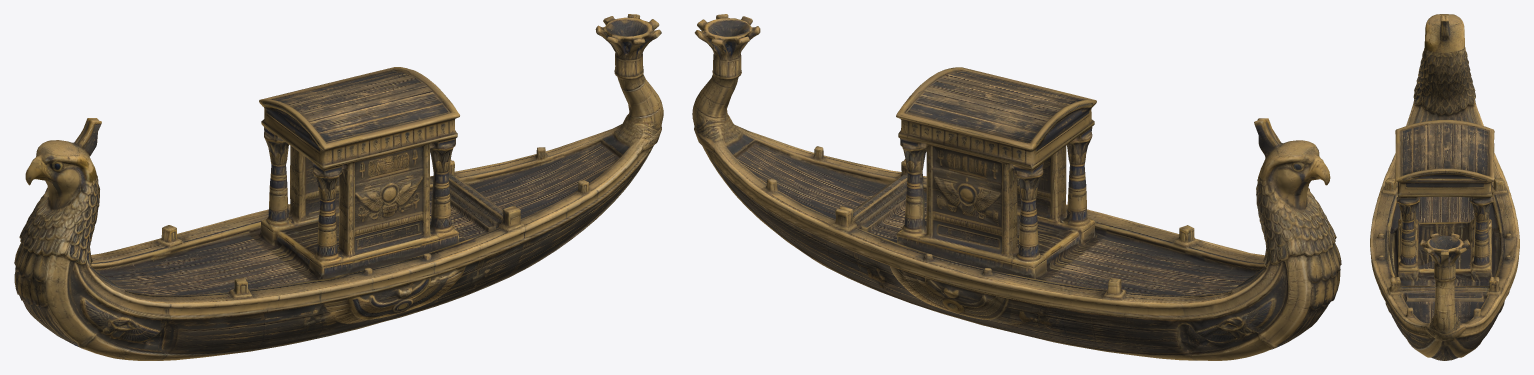
File: WF_EgyptianTombV2_FuneraryBoat.fbx
The picture shows the model from 3 angles, left to right: view 1: azimuth 30°, elevation 25°; view 2: azimuth 150°, elevation 25°; view 3: azimuth 270°, elevation 25°; orthographic projection. The views are drawn at different scales.
Visible parts, largest first — view 1: Mesh1.0; view 2: Mesh1.0; view 3: Mesh1.0.
Boxes of the visible parts, bbox=[...] form: Mesh1.0: bbox=[14, 14, 663, 360]; Mesh1.0: bbox=[692, 14, 1341, 360]; Mesh1.0: bbox=[1370, 14, 1519, 360].
Bounding box in the file's own units: 191 × 72.39 × 51.22.
1 material, 1 textured.
